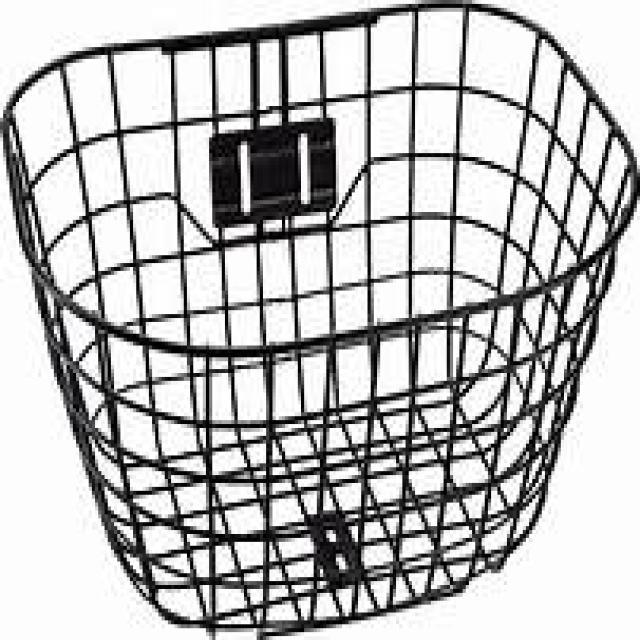basket: (2, 3, 638, 638)
